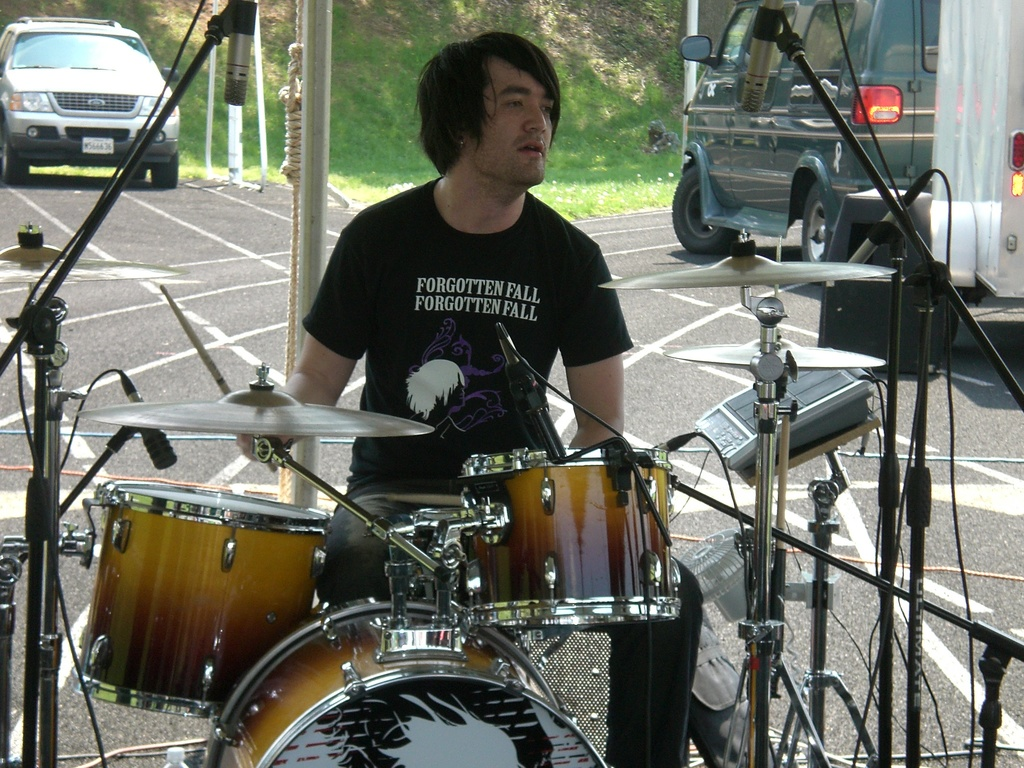Car: (0, 13, 181, 187)
